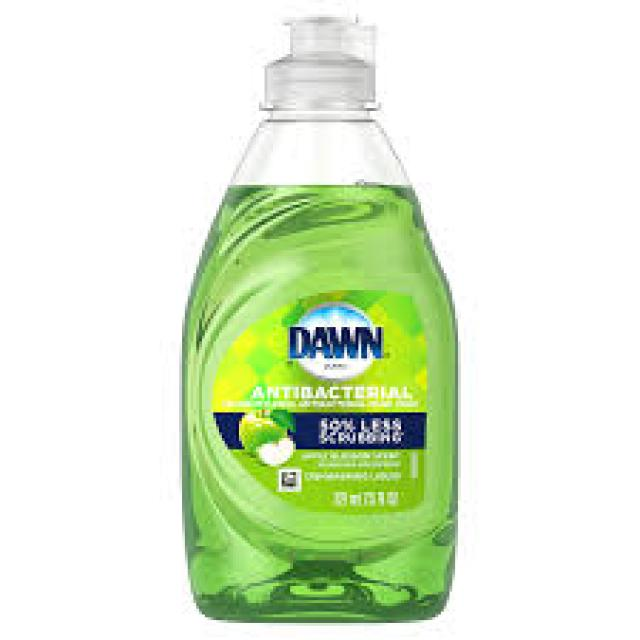liquid soap: (171, 4, 465, 630)
